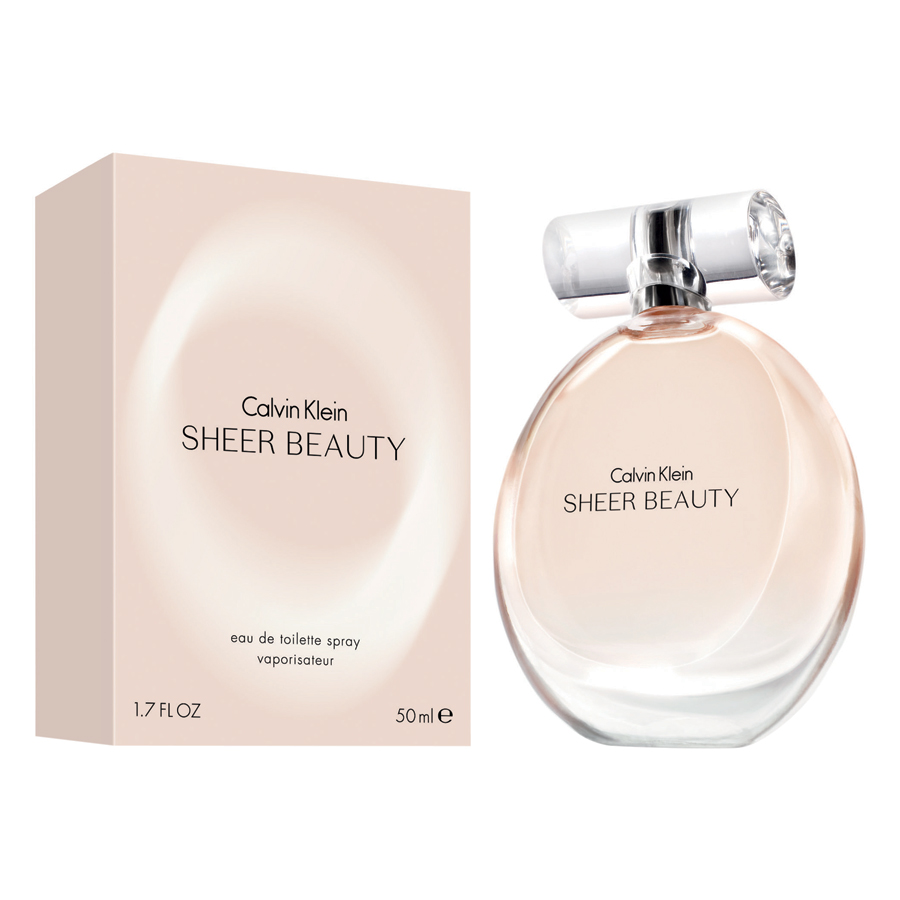Calvin Klein: (234, 387, 356, 427), (603, 456, 703, 486)
